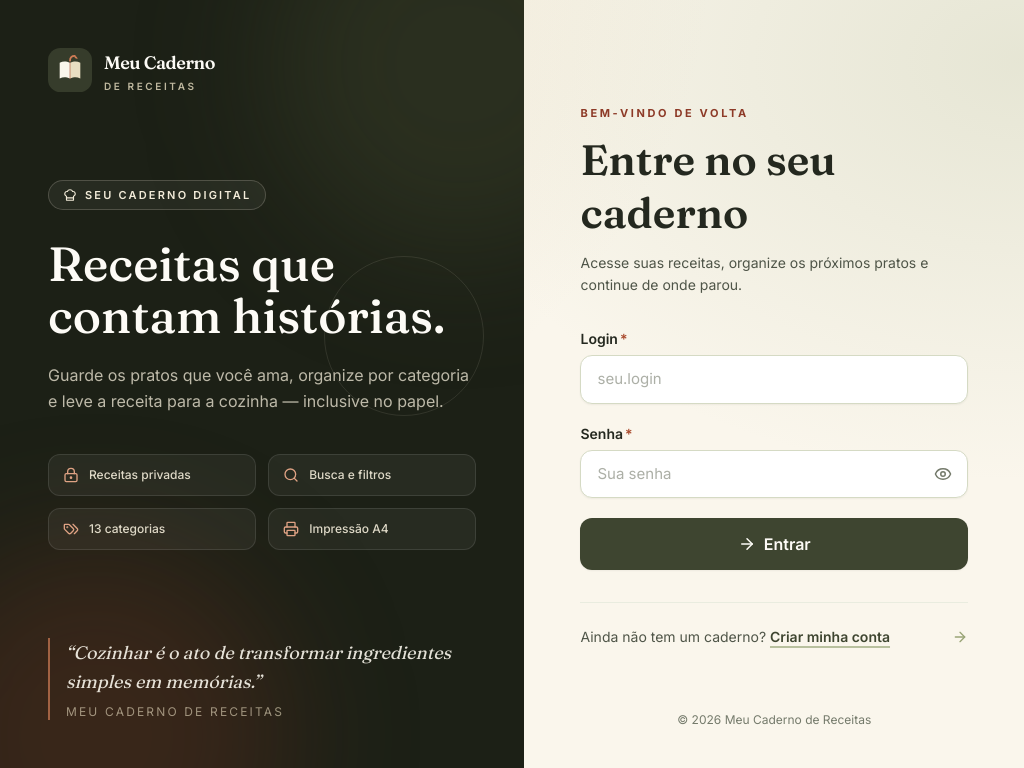
Test: LoginPage › keeps the data and shows a field error on 401
The width and height of the screenshot is (1024, 768).
Type "maria" into the field labelled "Login" at (774, 379), box [580,355,968,404]
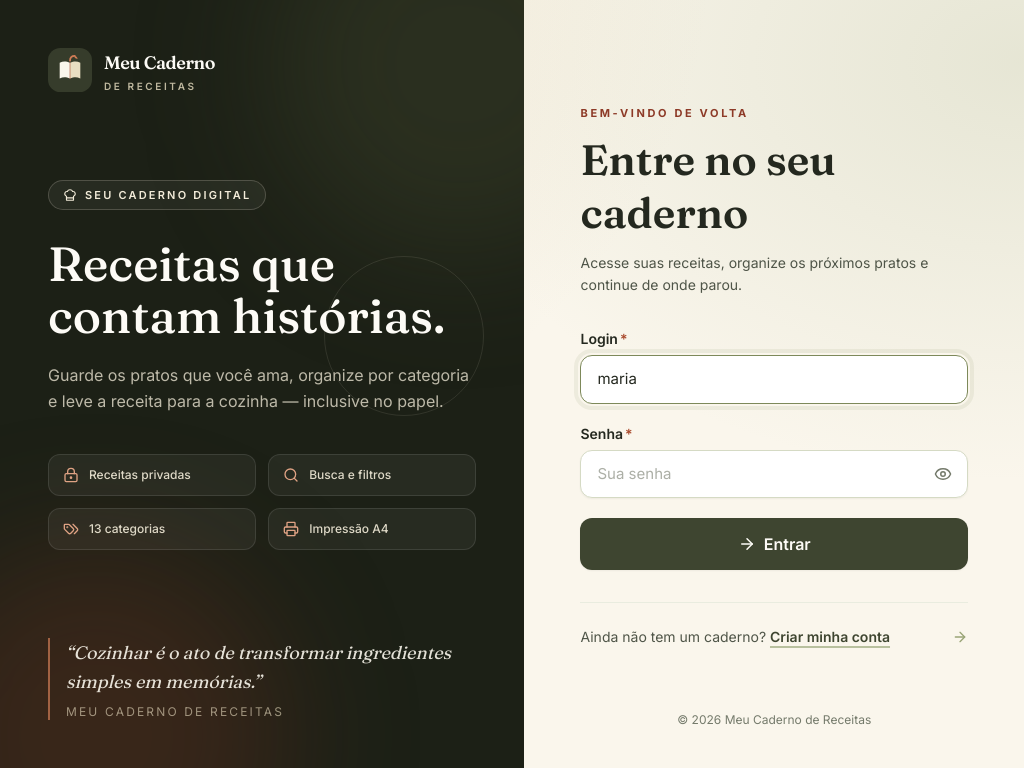
Type "Senha@123" into the password field labelled "Senha" at (774, 474), box [580,450,968,498]
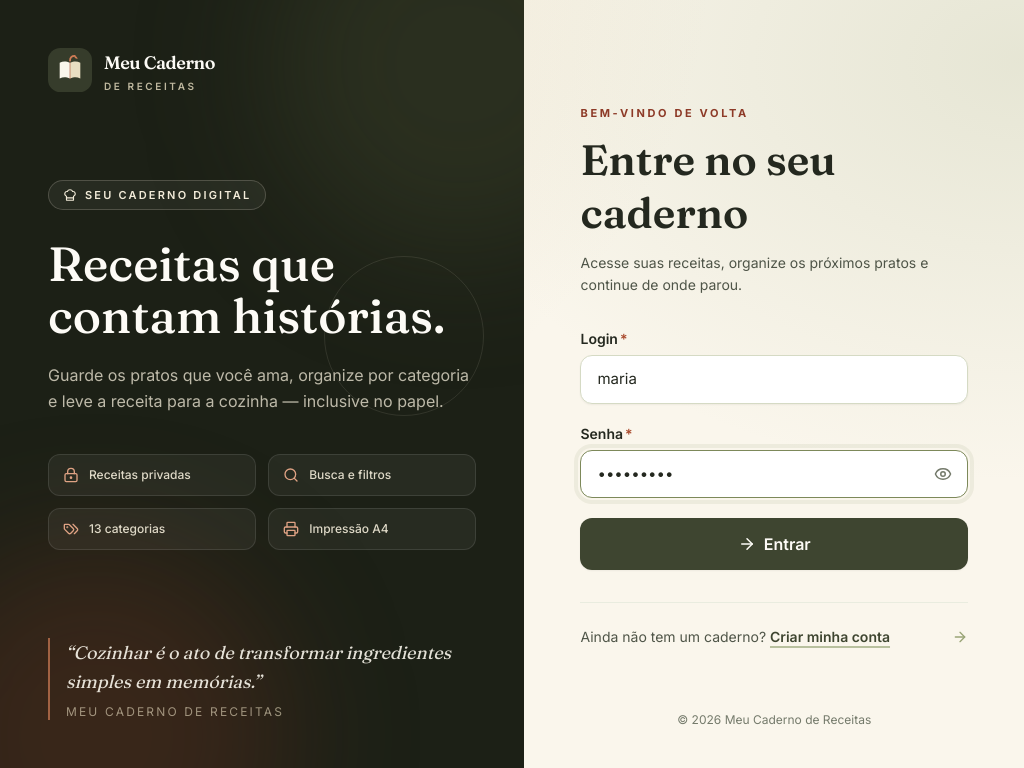
Click the button "Entrar" at (774, 544), box [580,518,968,570]
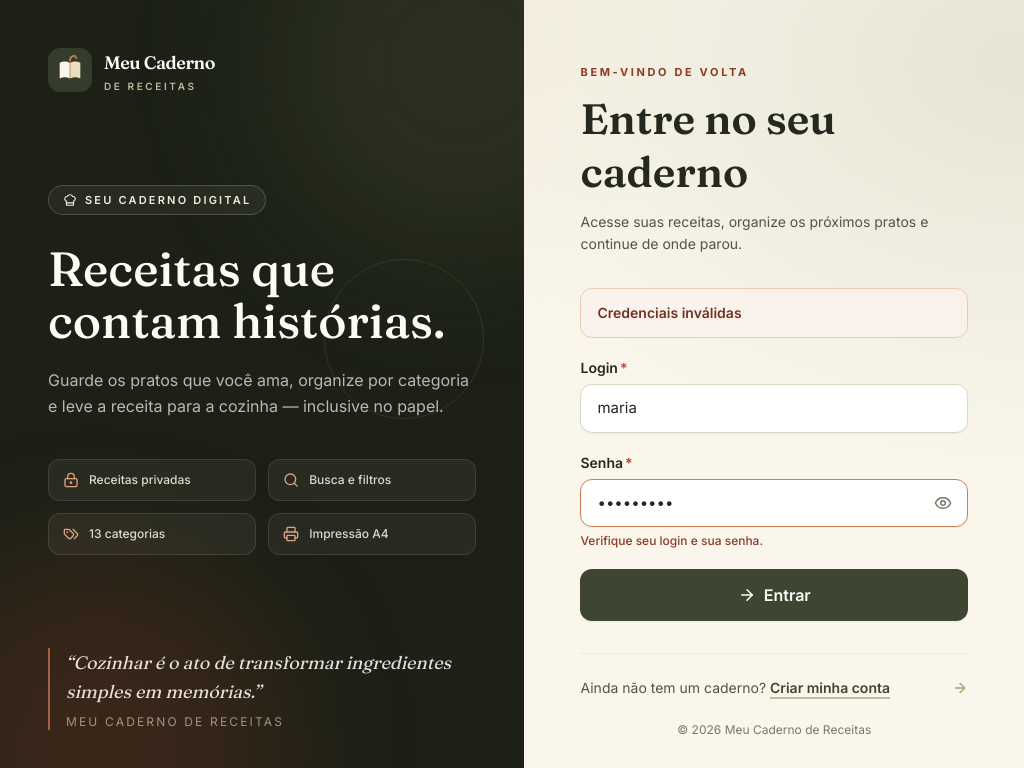
Check: the text "Verifique seu login e sua senha." is shown, box [580,533,763,548]
Check: the text "Credenciais inválidas" is shown, box [598,304,742,321]
